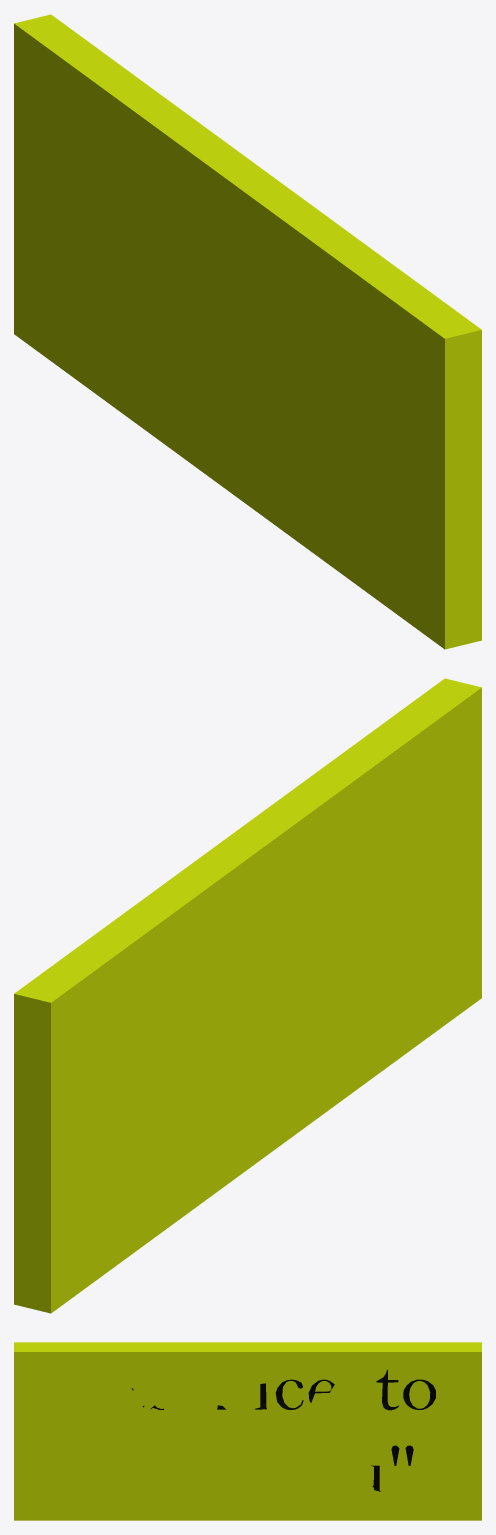
The model's file is MeatSign.fbx.
3 views of the same model, one above another, from view 1: azimuth 30°, elevation 25°; view 2: azimuth 150°, elevation 25°; view 3: azimuth 270°, elevation 25° (orthographic). The views are drawn at different scales.
Parts seen in each view (by area): view 1: Cube; view 2: Cube; view 3: Cube.
Boxes of the visible parts, box(x1,y1,x2,y2) form: Cube: box(14, 14, 481, 649); Cube: box(14, 678, 481, 1313); Cube: box(14, 1342, 481, 1520).
Bounding box in the file's own units: 24.97 × 200 × 503.
